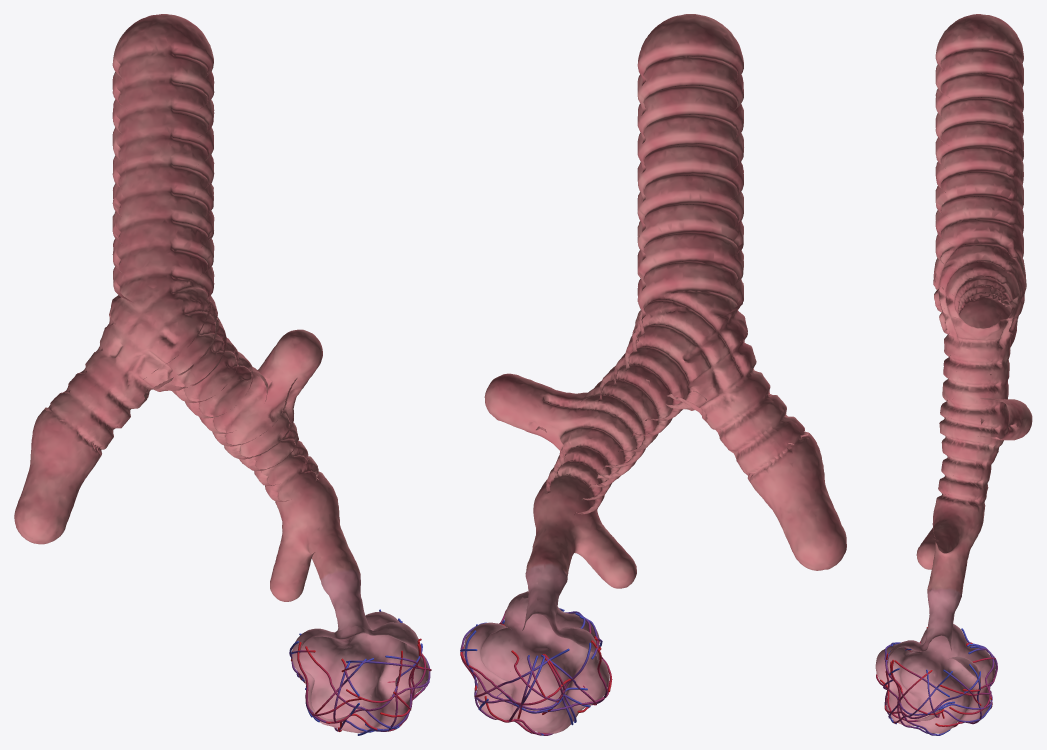
File: in_lungs.glb
The picture shows the model from 3 angles, left to right: view 1: azimuth 30°, elevation 25°; view 2: azimuth 150°, elevation 25°; view 3: azimuth 270°, elevation 25°; orthographic projection. The views are drawn at different scales.
Parts seen in each view (by area): view 1: airway, alveoli, capillaries; view 2: airway, alveoli, capillaries; view 3: airway, alveoli, capillaries.
Boxes of the visible parts, x1,y1,x2,y2 form: airway: (14,14,417,637); alveoli: (292,611,428,733); capillaries: (289,609,431,735); airway: (484,14,846,632); alveoli: (463,597,609,733); capillaries: (460,608,612,735); airway: (891,14,1032,650); alveoli: (875,625,995,733); capillaries: (876,627,997,735).
Size of the model in its own units: 14.18 by 26.48 by 5.86.
